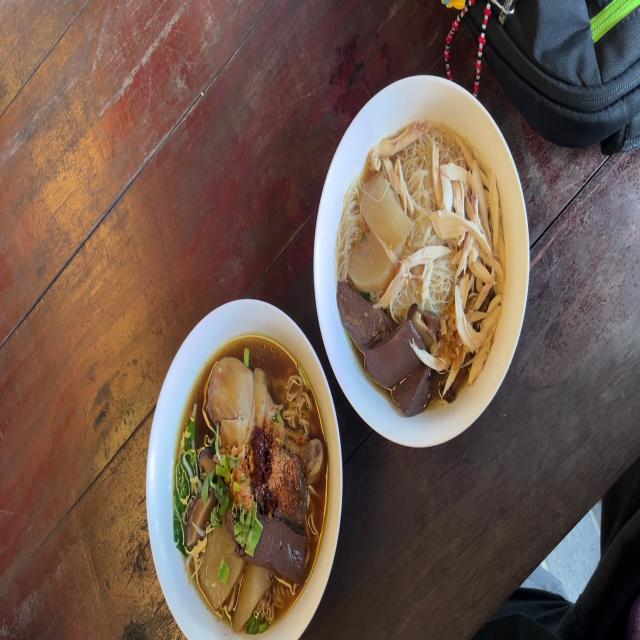noodle: (335, 115, 508, 403), (162, 332, 335, 618)
